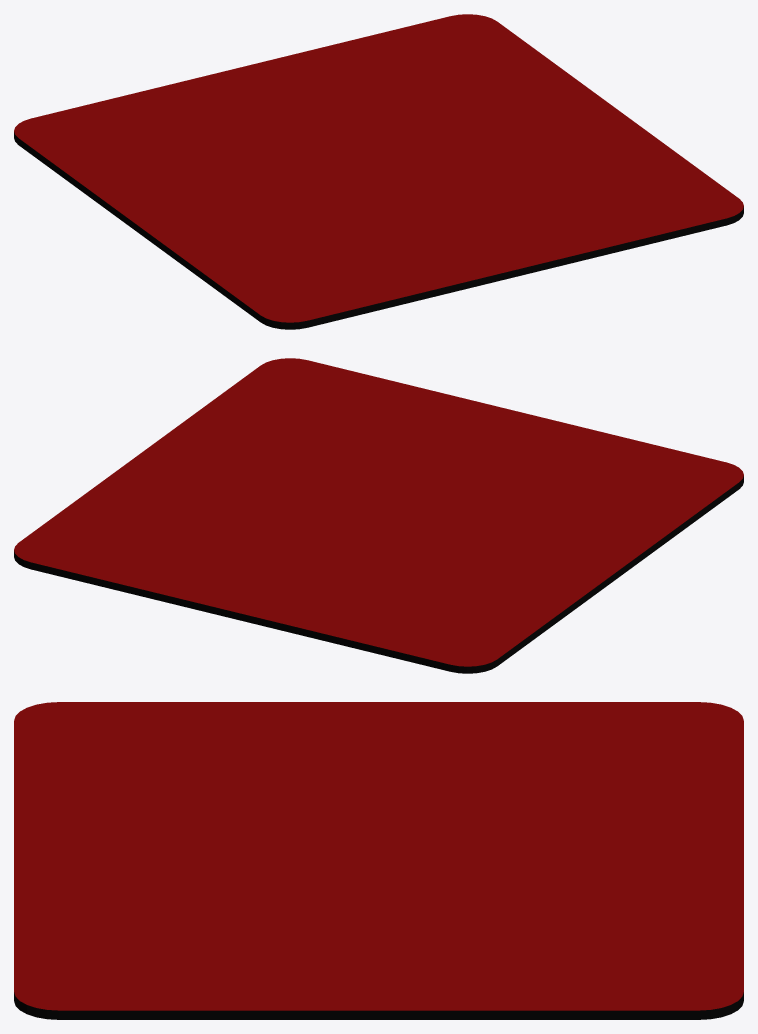
The model's file is Board.fbx.
3 renders of one model, top to bottom at view 1: azimuth 30°, elevation 25°; view 2: azimuth 150°, elevation 25°; view 3: azimuth 270°, elevation 25°, orthographic. The views are drawn at different scales.
Visible parts, largest first — view 1: Board; view 2: Board; view 3: Board.
Boxes of the visible parts, <box> form: Board: <box>14,14,743,329</box>; Board: <box>14,358,743,673</box>; Board: <box>14,702,743,1019</box>.
Size of the model in its own units: 2650 by 37.5 by 2650.
